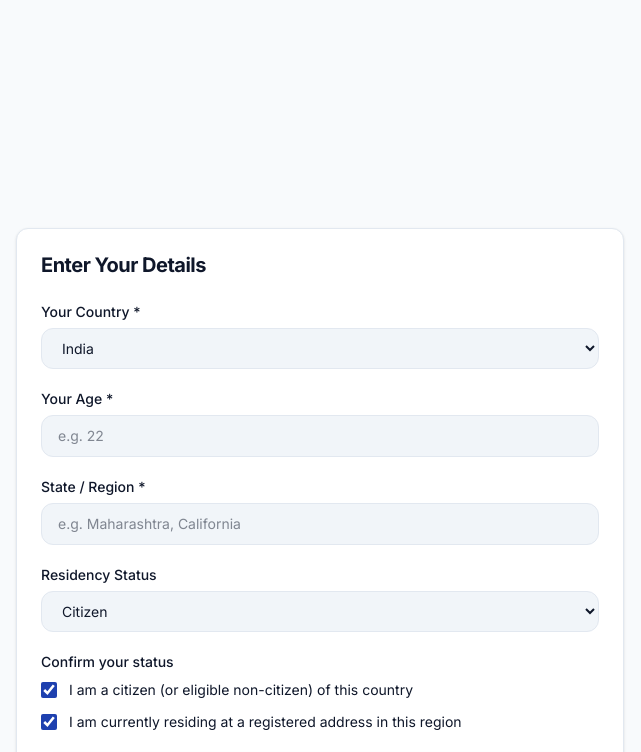
EligibilityClient Component › should show ineligibility for under 18
Type "California" into the field labelled "State / Region *".
click(320, 524); type("California")  # box [41,503,599,545]
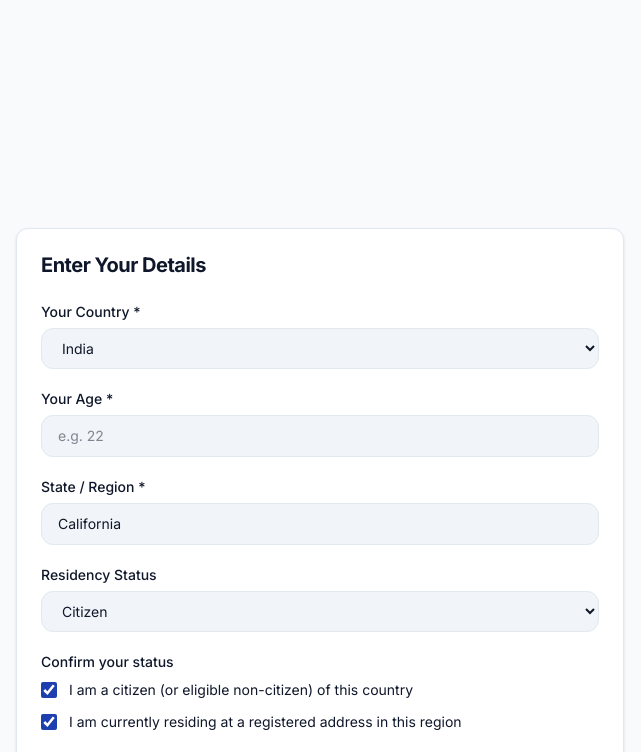
Type "16" into the number field labelled "Your Age *".
click(320, 436); type("16")  # box [41,415,599,457]
(page scrolled)
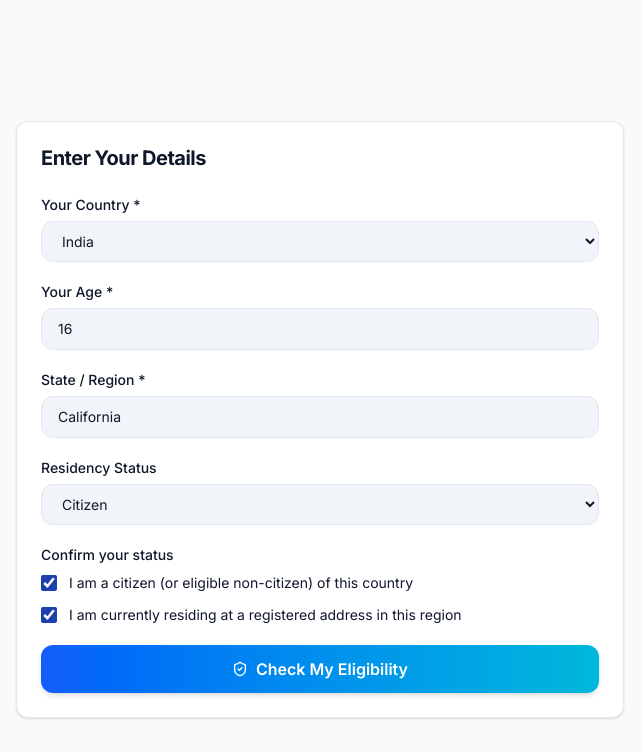
Click the button "Check My Eligibility".
click(320, 669)  # box [41,645,599,693]
(page scrolled)
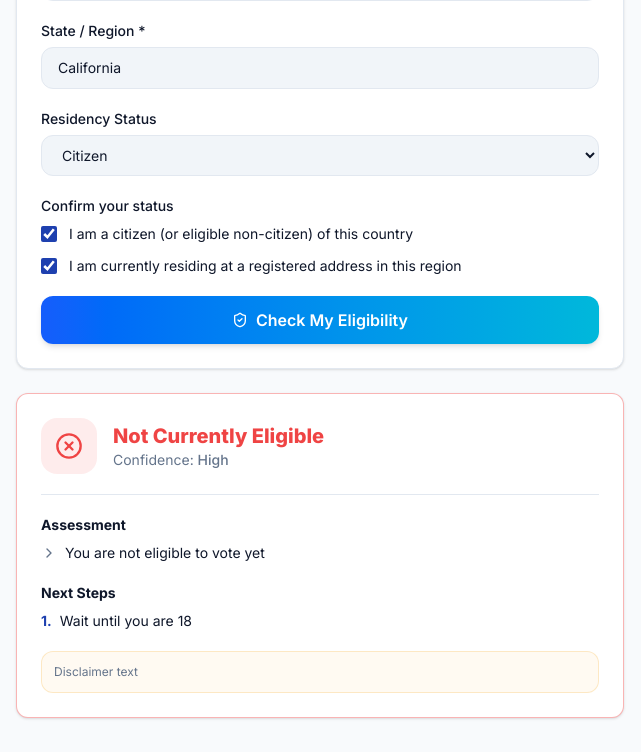
Now the list item "You are not eligible to vote yet" is shown, box [41,544,265,561]
